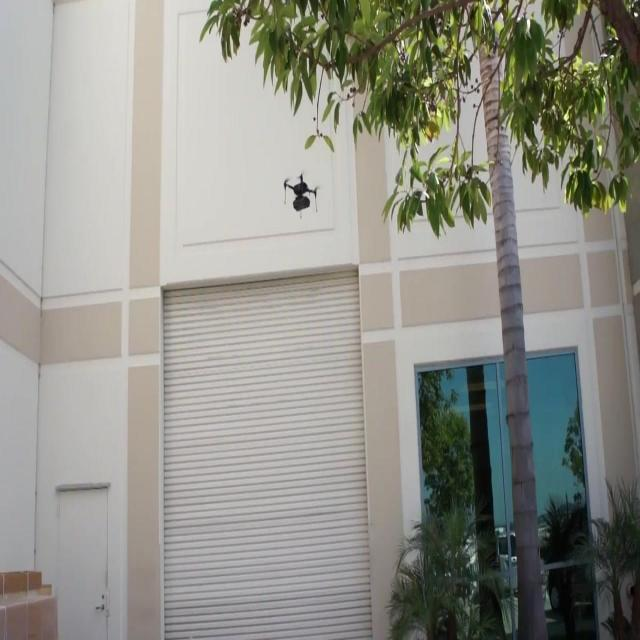UAV: (284, 172, 320, 218)
